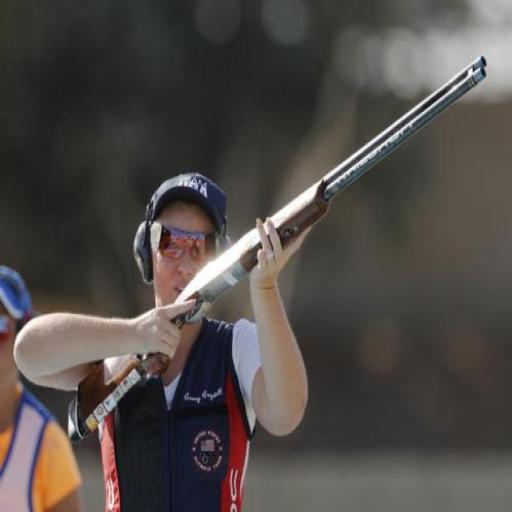shooting: (11, 169, 312, 511)
